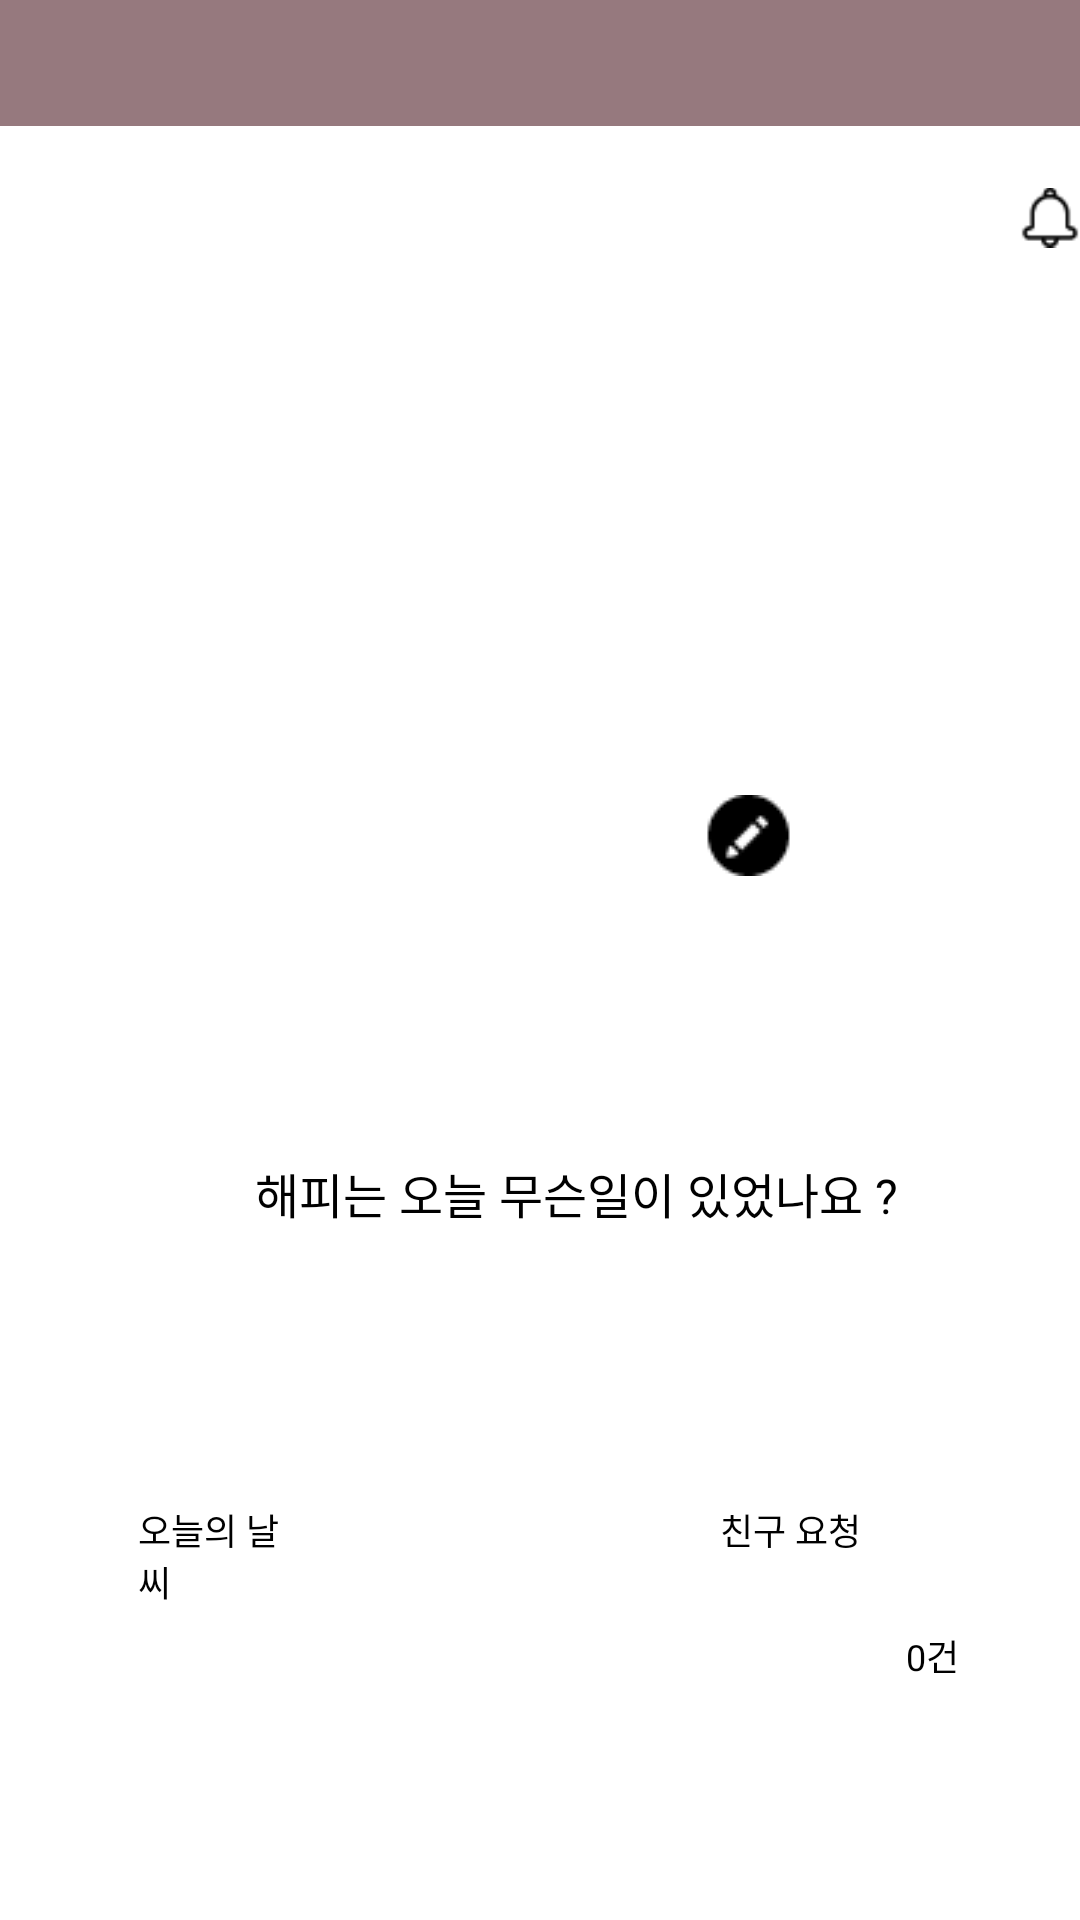

Where icons sit on this 1080×1920 app screen, as (x1, y1, x2, y2):
notification: (1022, 188, 1078, 248)
pencil: (707, 795, 790, 876)
